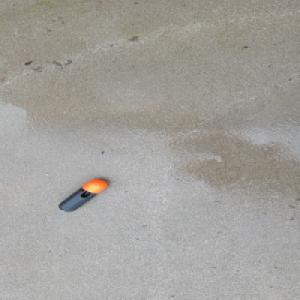PlasticPart: (57, 178, 108, 212)
